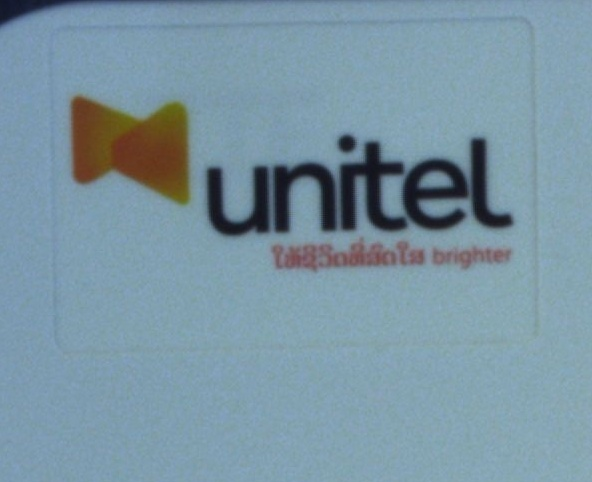BT_unitel: (70, 93, 516, 267)
